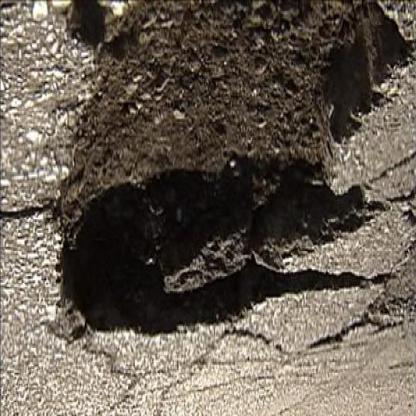pothole: (50, 2, 416, 349)
